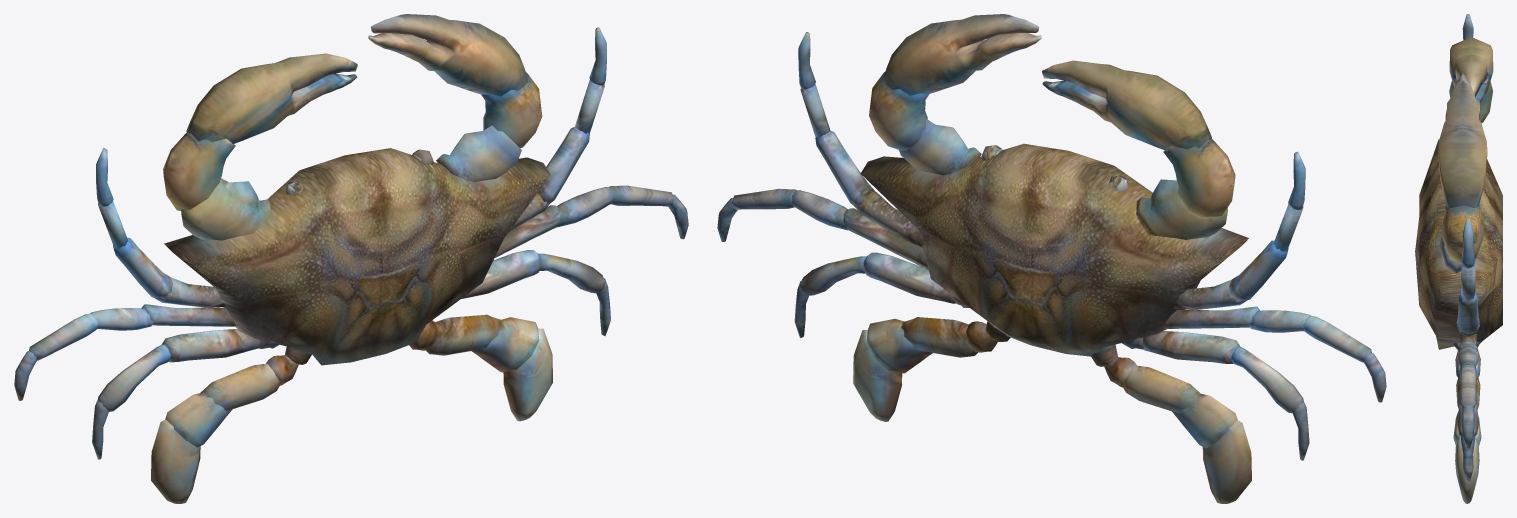
Rendered from blue-crab.glb.
3 views of the same model, side by side, from view 1: azimuth 30°, elevation 25°; view 2: azimuth 150°, elevation 25°; view 3: azimuth 270°, elevation 25° (orthographic). The views are drawn at different scales.
Parts seen in each view (by area): view 1: blue-crab; view 2: blue-crab; view 3: blue-crab.
Boxes of the visible parts, left/top/right/bottom form: blue-crab: left=14, top=14, right=688, bottom=503; blue-crab: left=717, top=14, right=1386, bottom=503; blue-crab: left=1415, top=14, right=1502, bottom=503.
Size of the model in its own units: 4.4 by 2.73 by 0.5876.
Materials: 1 (1 with a texture image).
